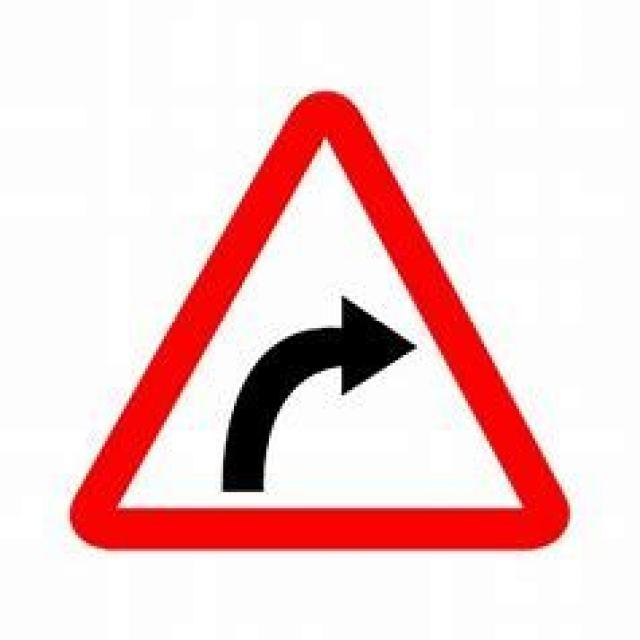right hand curve: (68, 92, 572, 553)
